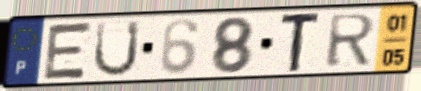6: (158, 17, 201, 77)
8: (208, 15, 256, 75)
E: (40, 20, 96, 82)
R: (324, 11, 379, 70)
T: (278, 10, 324, 75)
U: (90, 18, 143, 79)
